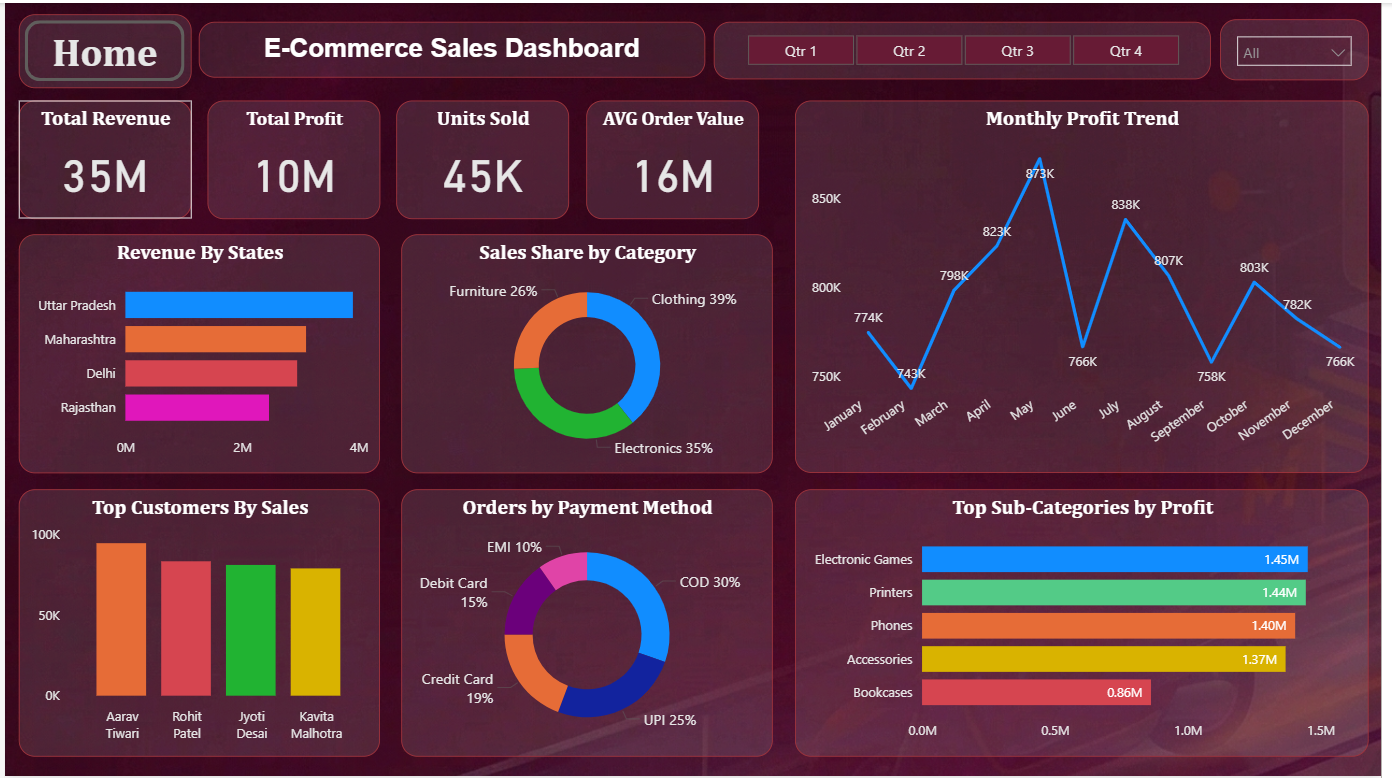

The page's visual inventory and layout, read from the dashboard file:
{"tool":"powerbi","page":{"name":"Analysis","canvas":[1280,720],"ordinal":1},"visuals":[{"type":"textbox","box":[180.2,17.4,470.9,52.3],"z":0},{"type":"lineChart","title":"Monthly Profit Trend","fields":{"Category":["Orders.Order Date.Variation.Date Hierarchy.Month"],"Y":["Sum(Details.Profit)"]},"box":[734.9,90.7,533.7,346.5],"z":1000},{"type":"barChart","title":"Top Sub-Categories by Profit","fields":{"Category":["Details.Sub-Category"],"Y":["Sum(Details.Profit)"]},"box":[734.9,452.3,533.7,248.8],"z":2000},{"type":"donutChart","title":"Sales Share by Category","fields":{"Category":["Details.Category"],"Y":["Sum(Details.Quantity)"]},"box":[368.6,215.1,345.3,222.1],"z":3000},{"type":"donutChart","title":"Orders by Payment Method","fields":{"Category":["Details.PaymentMode"],"Y":["Sum(Details.Quantity)"]},"box":[368.6,452.3,345.3,248.8],"z":4000},{"type":"card","title":"Total Revenue","fields":{"Values":["Sum(Details.Amount)"]},"box":[12.8,90.7,160.5,110.5],"z":5000},{"type":"card","title":"Total Profit","fields":{"Values":["Sum(Details.Profit)"]},"box":[188.4,90.7,160.5,110.5],"z":6000},{"type":"card","title":"Units Sold","fields":{"Values":["Sum(Details.Quantity)"]},"box":[364,90.7,160.5,110.5],"z":7000},{"type":"card","title":"AVG Order Value","fields":{"Values":["Sum(Details.AOV)"]},"box":[540.7,90.7,160.5,110.5],"z":8000},{"type":"barChart","title":"Revenue By States","fields":{"Category":["Orders.State"],"Y":["Sum(Details.Amount)"]},"box":[12.8,215.1,336,222.1],"z":9000},{"type":"columnChart","title":"Top Customers By Sales","fields":{"Category":["Orders.CustomerName"],"Y":["Sum(Details.Amount)"]},"box":[12.8,452.3,336,248.8],"z":10000},{"type":"slicer","fields":{"Values":["Orders.Order Date.Variation.Date Hierarchy.Quarter"]},"box":[659.3,17.4,462.8,53.5],"z":11000},{"type":"slicer","fields":{"Values":["Orders.State"]},"box":[1130.2,15.1,138.4,57],"z":12000},{"type":"actionButton","box":[12.8,10.5,160.5,68.6],"z":13000}]}

Visuals, with their boxes in screenshot pixels (x1, y1, x2, y2), scaled from the page's 1280x720 canvas onto the 1392x778 screenshot:
textbox: 196,19,708,75
"Monthly Profit Trend" lineChart: 799,98,1380,472
"Top Sub-Categories by Profit" barChart: 799,489,1380,758
"Sales Share by Category" donutChart: 401,232,776,472
"Orders by Payment Method" donutChart: 401,489,776,758
"Total Revenue" card: 14,98,188,217
"Total Profit" card: 205,98,379,217
"Units Sold" card: 396,98,570,217
"AVG Order Value" card: 588,98,763,217
"Revenue By States" barChart: 14,232,379,472
"Top Customers By Sales" columnChart: 14,489,379,758
slicer - Orders.Order Date.Variation.Date Hierarchy.Quarter: 717,19,1220,77
slicer - Orders.State: 1229,16,1380,78
actionButton: 14,11,188,85
